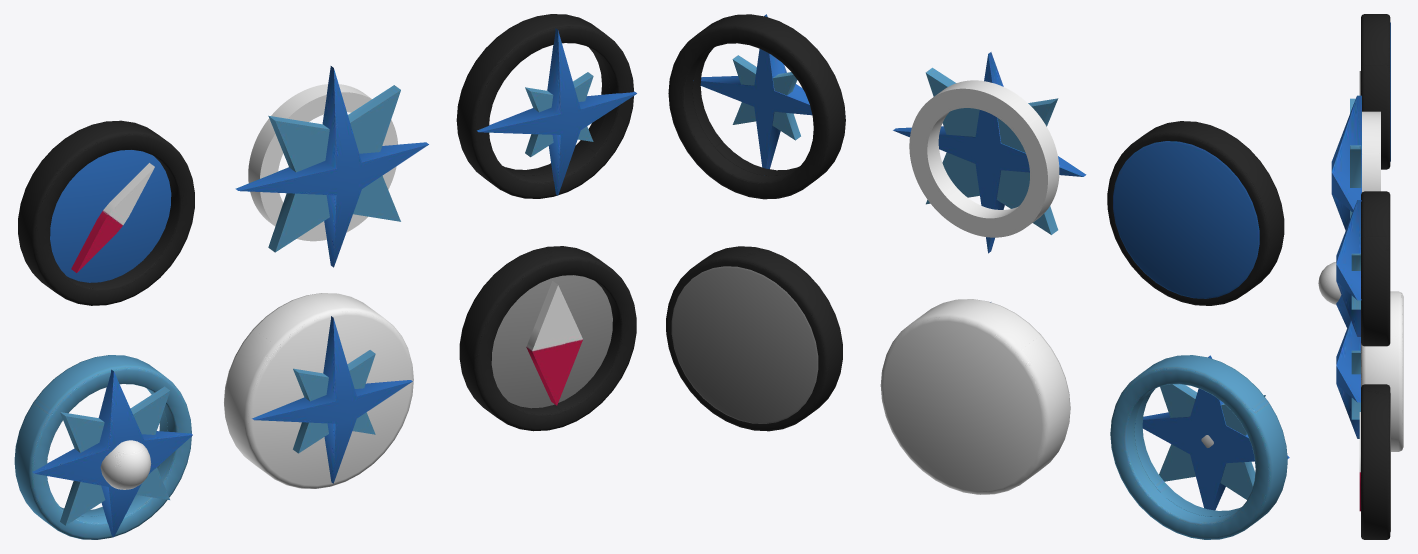
Rendered from 3d_icons_compass.glb.
3 views of the same model, side by side, from view 1: azimuth 30°, elevation 25°; view 2: azimuth 150°, elevation 25°; view 3: azimuth 270°, elevation 25° (orthographic). The views are drawn at different scales.
Parts seen in each view (by area): view 1: compas_6, compas_1, compas_4, compas_5, compas_3, compas_2; view 2: compas_6, compas_1, compas_4, compas_5, compas_3, compas_2; view 3: compas_3, compas_6, compas_4, compas_2, compas_1, compas_5.
Part boxes in pixels (x1,y1,x2,y2): compas_6: (224, 293, 413, 488); compas_1: (18, 120, 194, 305); compas_4: (459, 246, 636, 431); compas_5: (14, 355, 192, 539); compas_3: (456, 14, 636, 198); compas_2: (235, 66, 428, 267); compas_6: (880, 299, 1070, 494); compas_1: (1107, 121, 1284, 305); compas_4: (666, 246, 842, 431); compas_5: (1110, 355, 1289, 539); compas_3: (668, 14, 845, 199); compas_2: (893, 52, 1086, 253); compas_3: (1336, 191, 1390, 346); compas_6: (1336, 291, 1403, 451); compas_4: (1359, 384, 1390, 539); compas_2: (1331, 95, 1380, 230); compas_1: (1359, 14, 1390, 169); compas_5: (1318, 262, 1350, 327).
Bounding box in the file's own units: 84.88 × 56.43 × 12.48.
Materials: 6 (6 with a texture image).
